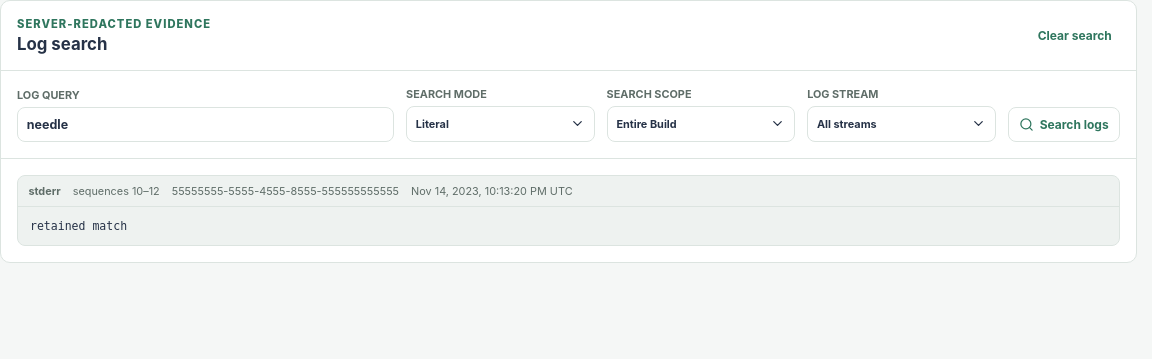
Test case: Build log search › retains and marks previous matches when a refresh fails
This screenshot has width=1152, height=359.
Expected: the text "retained match" is shown, 30,219 -> 127,233
Step 1. Click the button "Search logs" → (1064, 124), box 1008,107 -> 1120,142
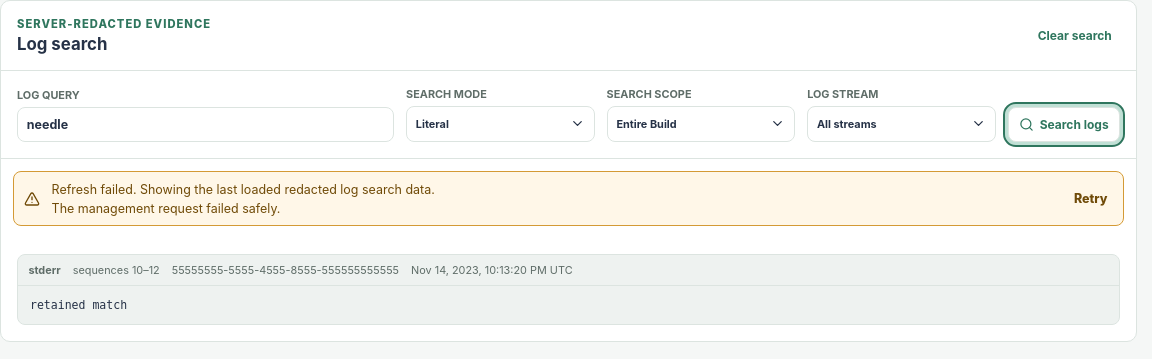
Expected: the text "retained match" is shown, 30,298 -> 127,312
Now the text "Refresh failed. Showing the last loaded redacted log search data." is shown, box 52,182 -> 435,197
